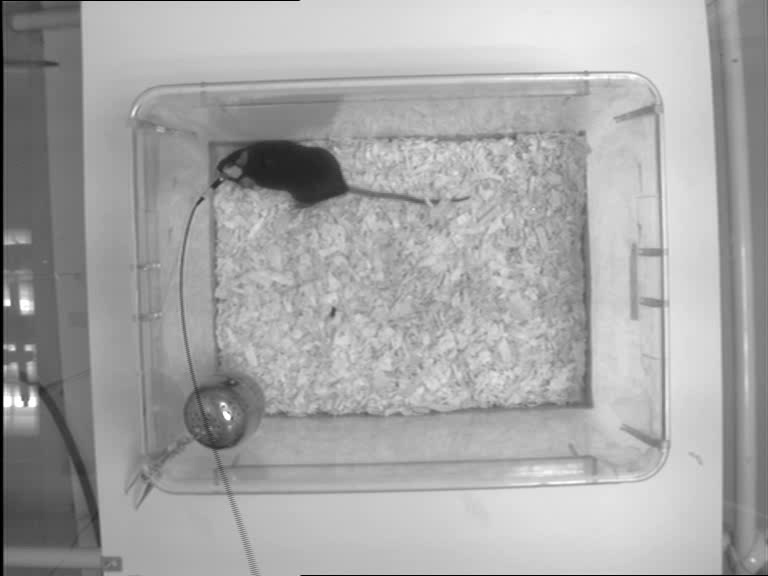mice: (216, 139, 474, 209)
